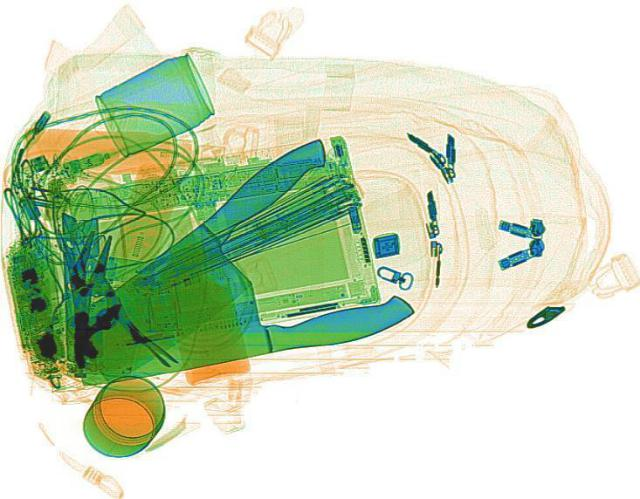Gun: (42, 131, 386, 384), (52, 249, 420, 394)
